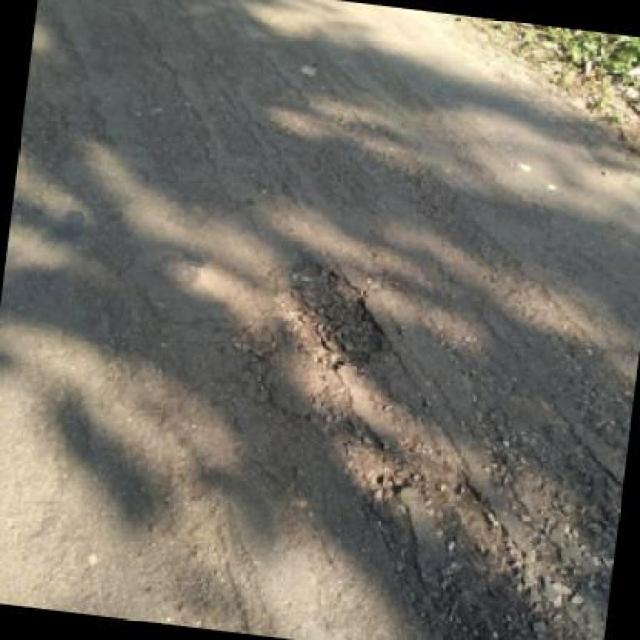pothole1: (261, 252, 397, 378)
